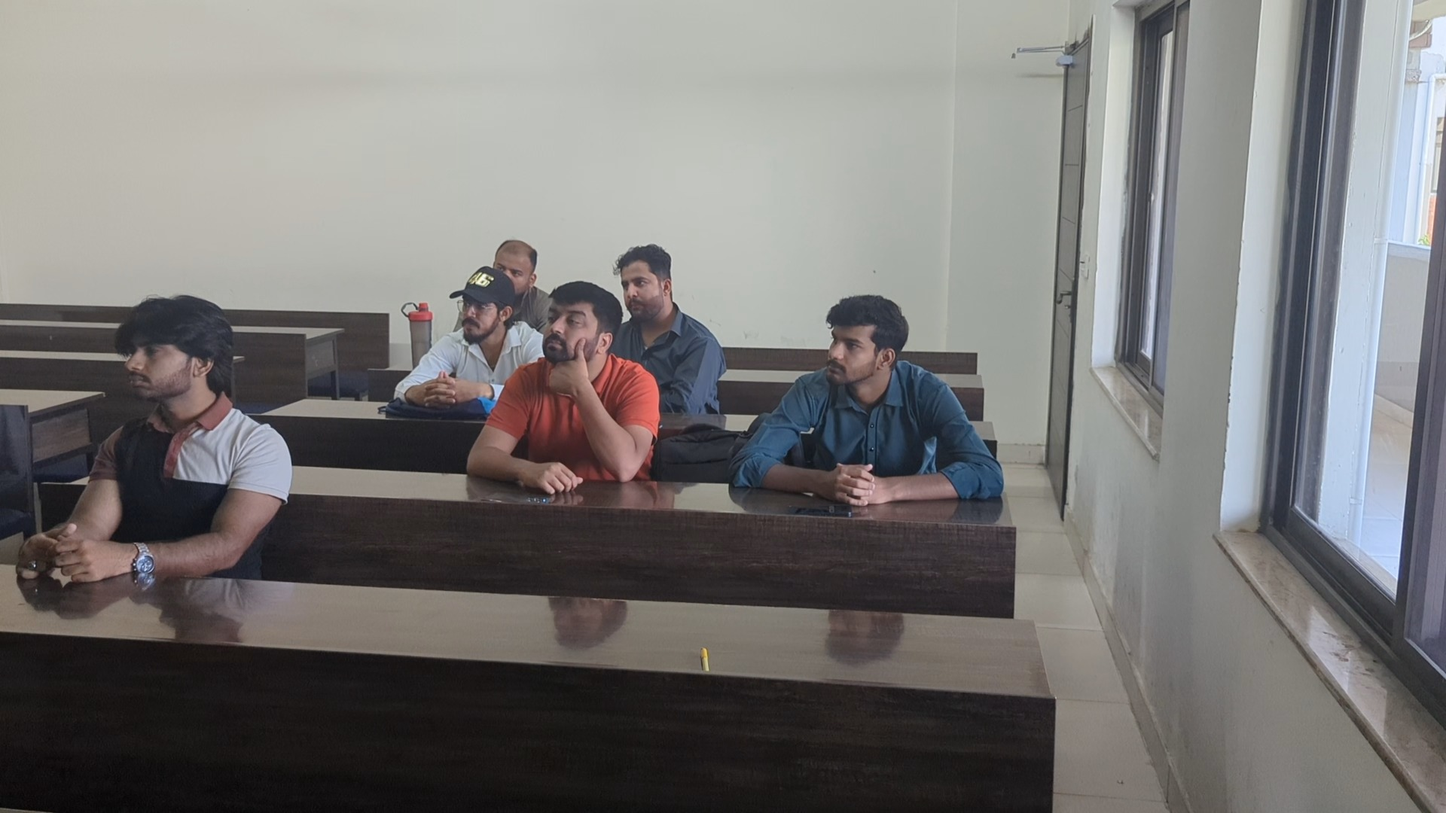look_forward: (81, 313, 287, 551), (832, 297, 928, 450), (536, 293, 628, 445), (611, 229, 711, 363), (427, 273, 525, 400), (488, 234, 561, 298)
